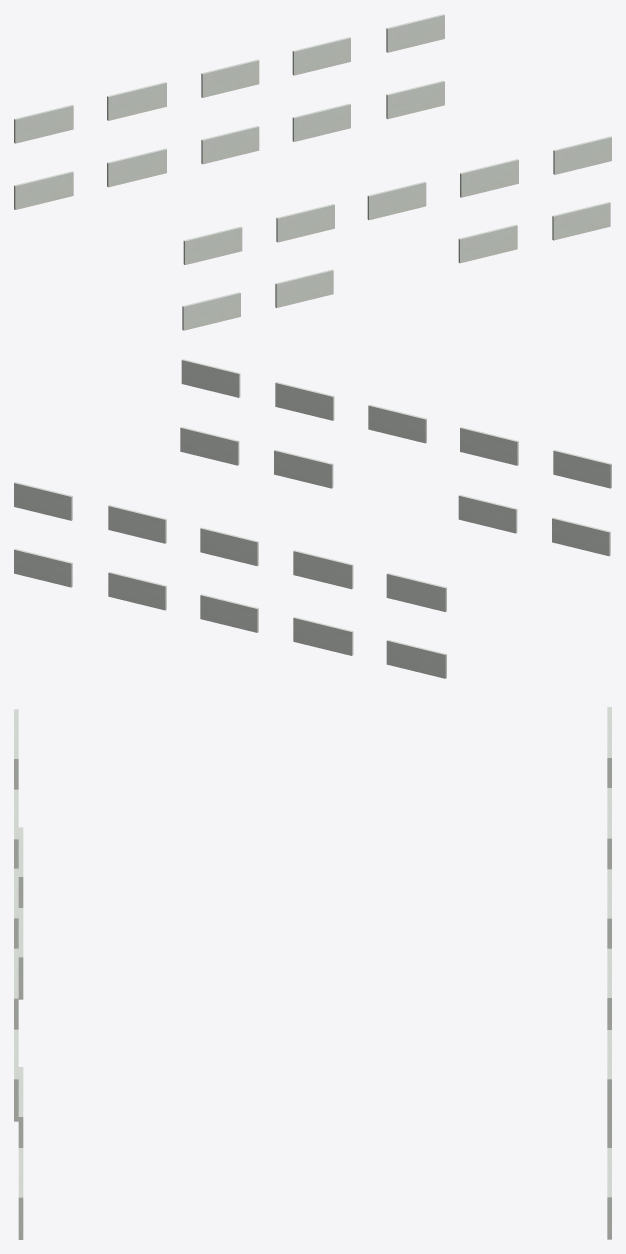
File: ventanasRestaurante.obj
3 views of the same model, one above another, from view 1: azimuth 30°, elevation 25°; view 2: azimuth 150°, elevation 25°; view 3: azimuth 270°, elevation 25° (orthographic). The views are drawn at different scales.
Visible parts, largest first — view 1: ventanas:ventanas; view 2: ventanas:ventanas; view 3: ventanas:ventanas.
Part boxes in pixels (x1,y1,x2,y2): ventanas:ventanas: (14,14,611,330); ventanas:ventanas: (14,359,611,678); ventanas:ventanas: (14,707,611,1239).
Size of the model in its own units: 22.38 by 4.49 by 15.19.
Materials: 1 (1 with a texture image).
